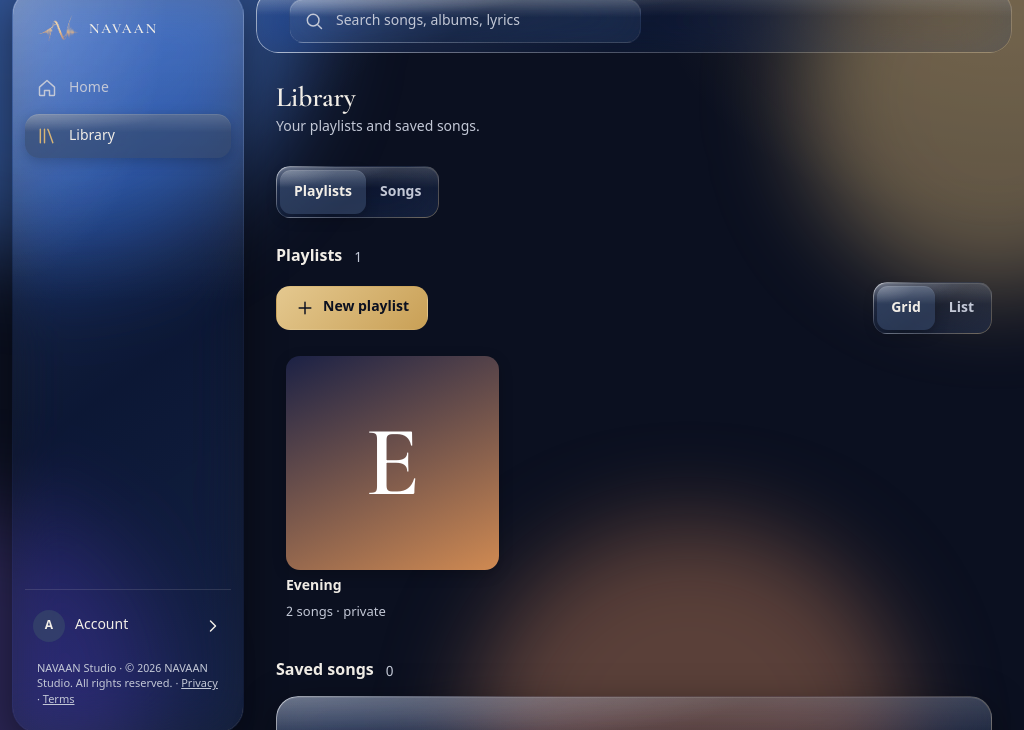
Library › shows the plan's limit message with a way to the plans when the server refuses
expect the link "E Evening 2 songs · private" is shown: met, box left=276, top=346, right=509, bottom=632
Click the button "New playlist" at (352, 308), box left=276, top=286, right=428, bottom=330
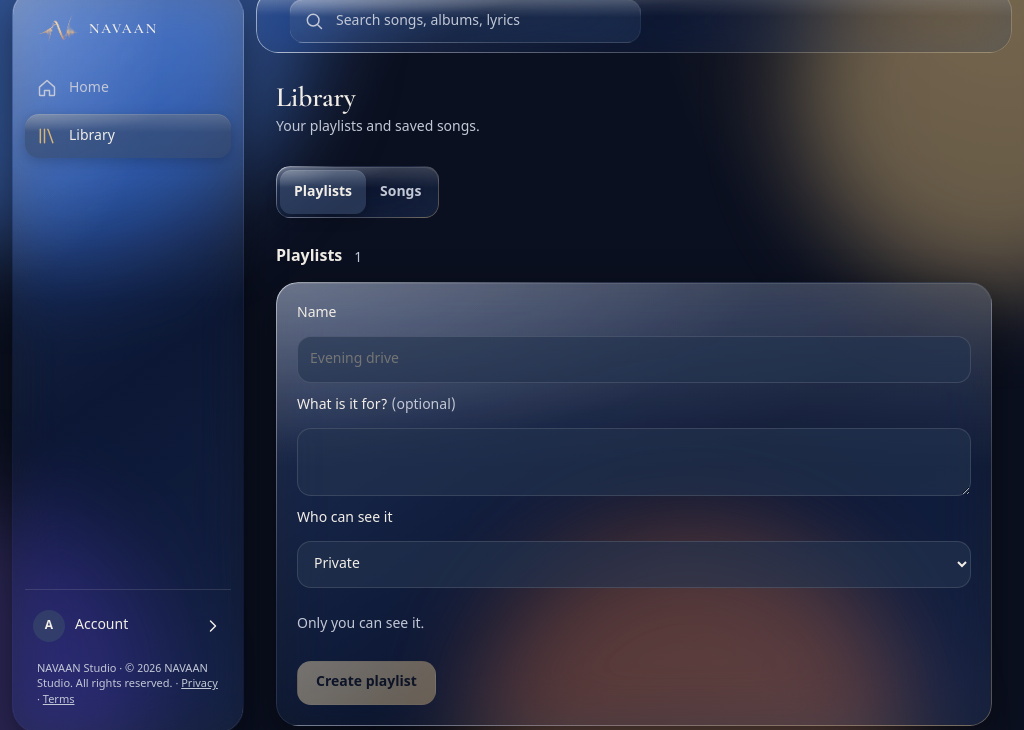
Type "A fourth" into the field labelled "Name" at (634, 360), box left=297, top=336, right=971, bottom=383
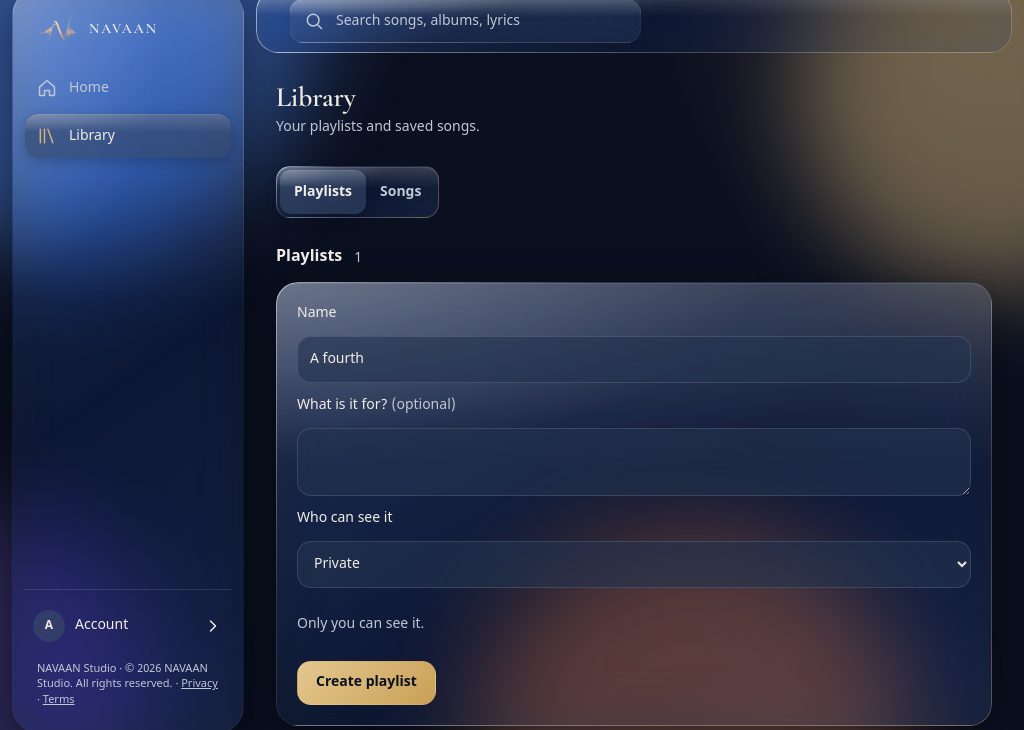
Click the button "Create playlist" at (366, 683), box left=297, top=661, right=436, bottom=705
(page scrolled)
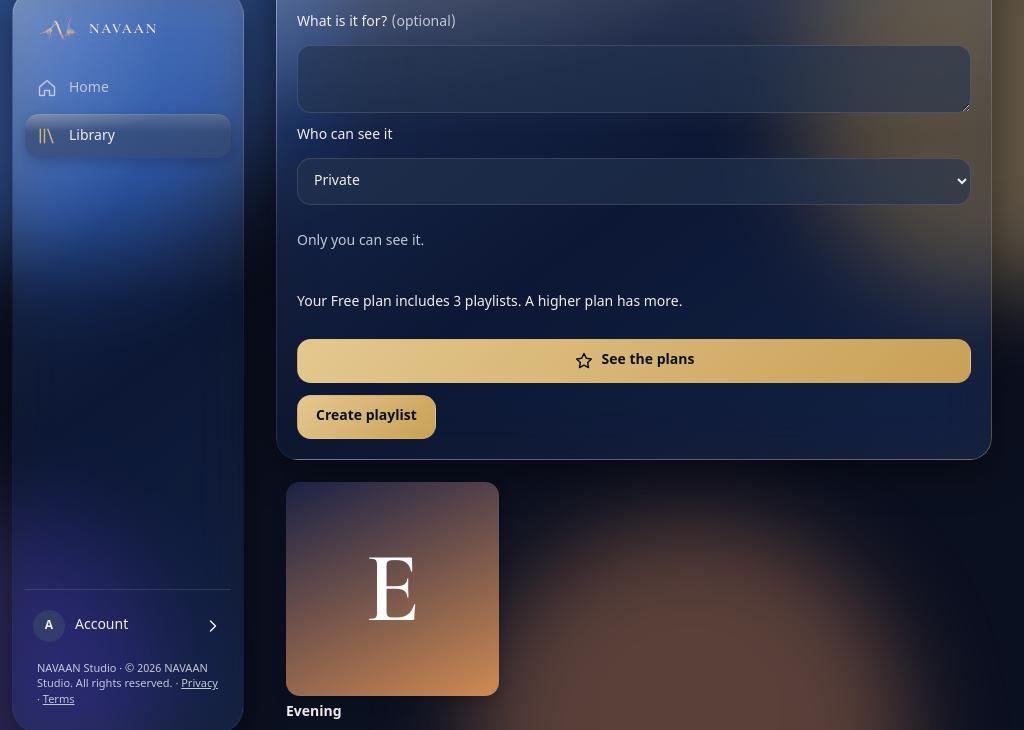
expect the message shows "Your Free plan includes 3 playlists": met, box left=297, top=293, right=682, bottom=312
